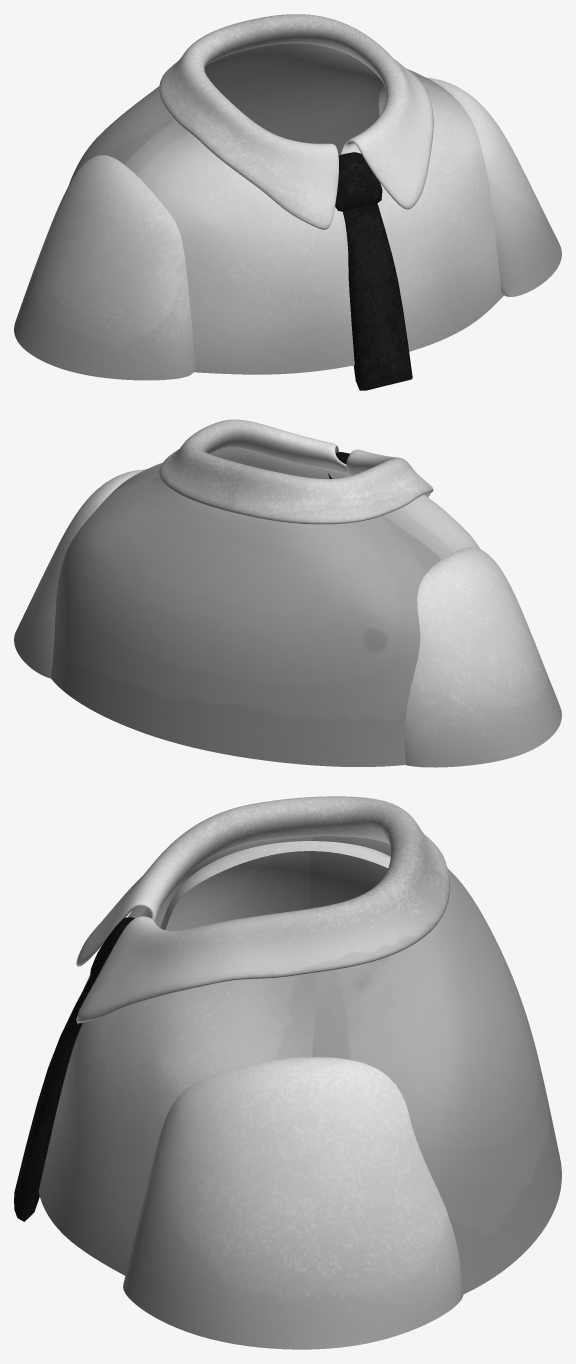
The model's file is clothe6.glb.
3 views of the same model, one above another, from view 1: azimuth 30°, elevation 25°; view 2: azimuth 150°, elevation 25°; view 3: azimuth 270°, elevation 25° (orthographic). The views are drawn at different scales.
Visible parts, largest first — view 1: clothes.006; view 2: clothes.006; view 3: clothes.006.
Boxes of the visible parts, box(x1,y1,x2,y2) form: clothes.006: box(14, 14, 561, 390); clothes.006: box(14, 419, 561, 767); clothes.006: box(14, 796, 561, 1349).
Size of the model in its own units: 1.83 by 0.8886 by 1.21.
Materials: 1 (1 with a texture image).
